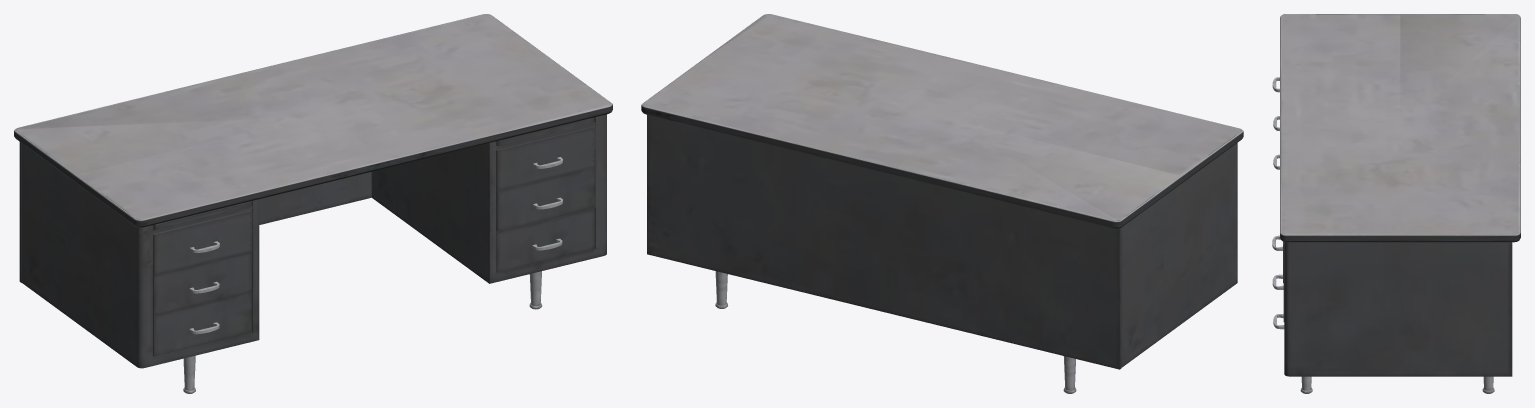
The model's file is metal_office_desk.glb.
The picture shows the model from 3 angles, left to right: view 1: azimuth 30°, elevation 25°; view 2: azimuth 150°, elevation 25°; view 3: azimuth 270°, elevation 25°; orthographic projection. The views are drawn at different scales.
Visible parts, largest first — view 1: metal_office_desk_drawer_06; view 2: metal_office_desk_drawer_06; view 3: metal_office_desk_drawer_06.
Part boxes in pixels (x1,y1,x2,y2): metal_office_desk_drawer_06: [14, 14, 612, 393]; metal_office_desk_drawer_06: [641, 14, 1243, 393]; metal_office_desk_drawer_06: [1272, 14, 1520, 393].
Size of the model in its own units: 2 by 0.7874 by 0.9471.
1 material, 1 textured.
